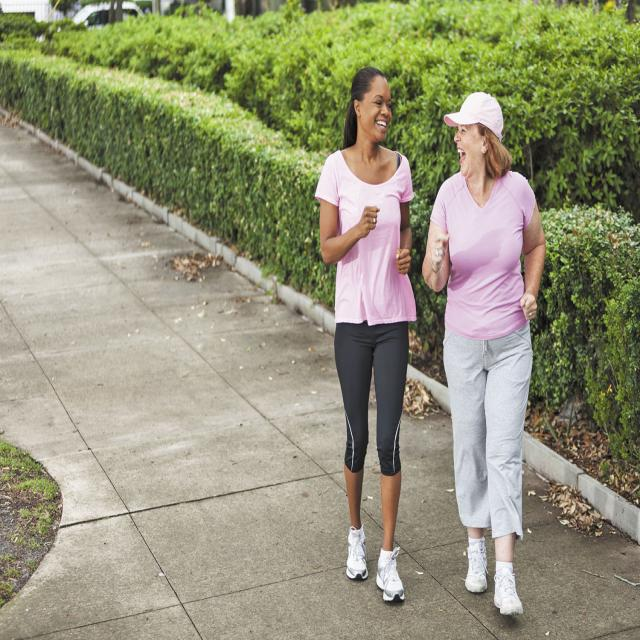Person: (423, 91, 546, 616), (316, 67, 418, 602)
